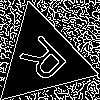R: (18, 33, 75, 91)
